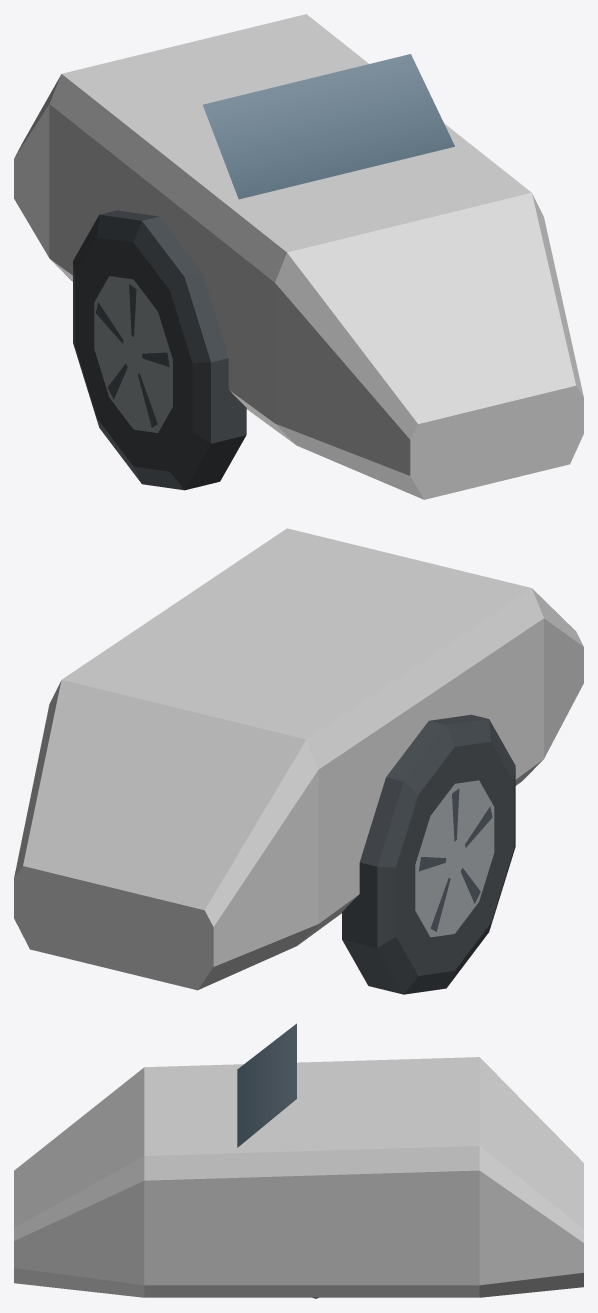
Rendered from sidecar.glb.
The picture shows the model from 3 angles, top to bottom: view 1: azimuth 30°, elevation 25°; view 2: azimuth 150°, elevation 25°; view 3: azimuth 270°, elevation 25°; orthographic projection. The views are drawn at different scales.
Visible parts, largest first — view 1: body; view 2: body; view 3: body.
Boxes of the visible parts, x1,y1,x2,y2 form: body: [14, 14, 583, 499]; body: [14, 528, 583, 994]; body: [14, 1023, 583, 1298].
Bounding box in the file's own units: 0.682 × 0.83 × 1.53.
